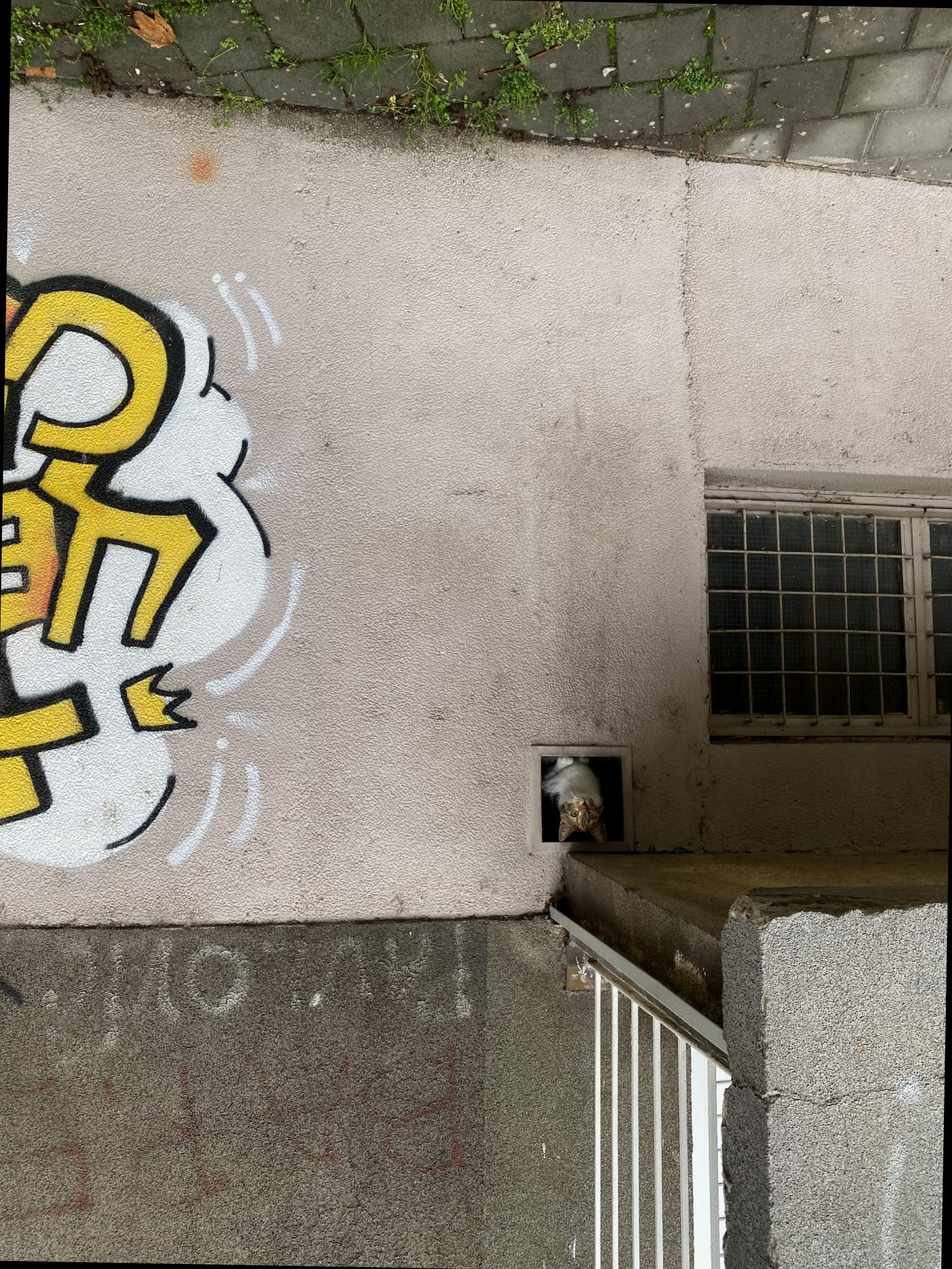macka: (540, 755, 610, 844)
